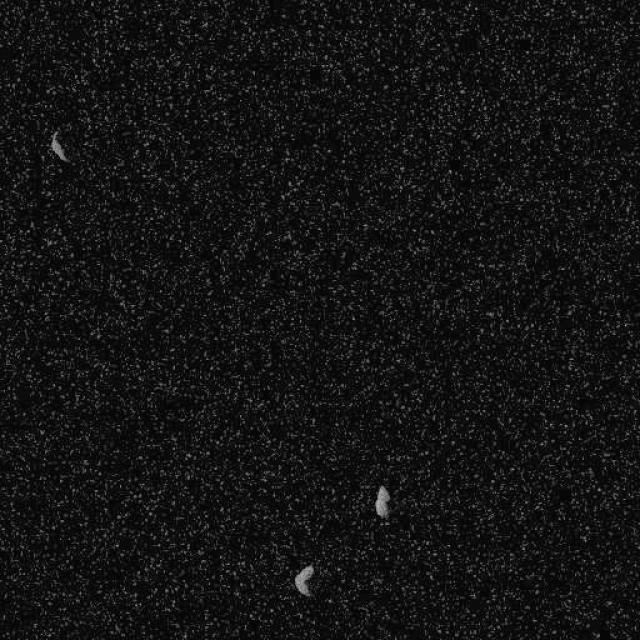D2: (292, 562, 314, 598), (49, 128, 70, 164), (374, 484, 391, 518)
